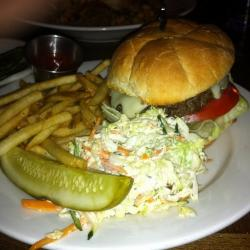burger: (119, 25, 240, 153)
fries: (9, 74, 106, 149)
ketchup: (28, 34, 84, 82)
